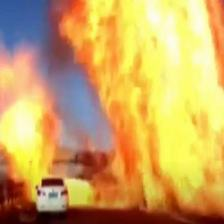fire: (72, 2, 224, 205), (1, 59, 56, 175)
